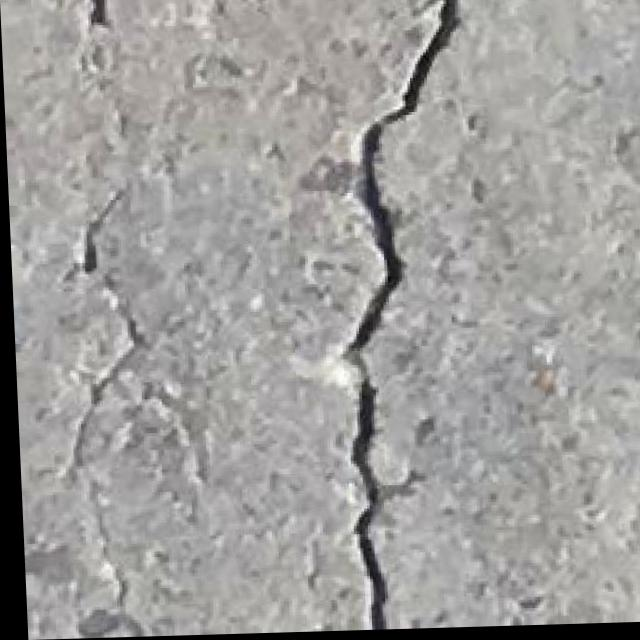Crack: (283, 0, 491, 633), (49, 171, 148, 594)
